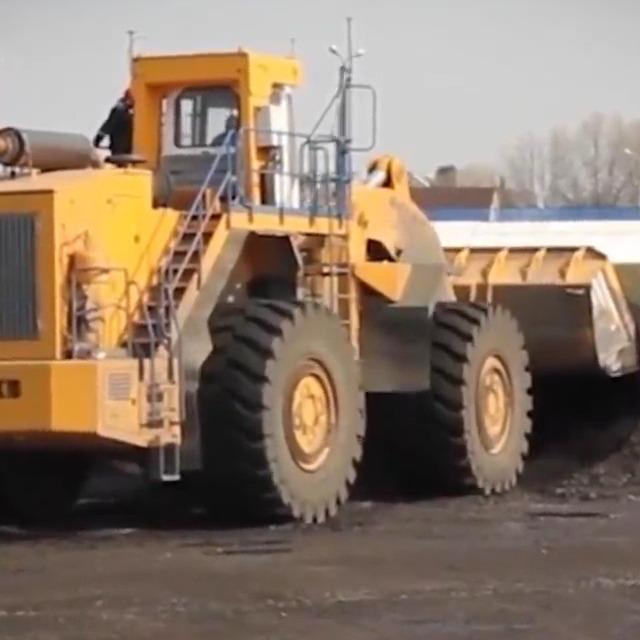Person: (211, 116, 240, 145)
wheel loader: (0, 32, 640, 533)
